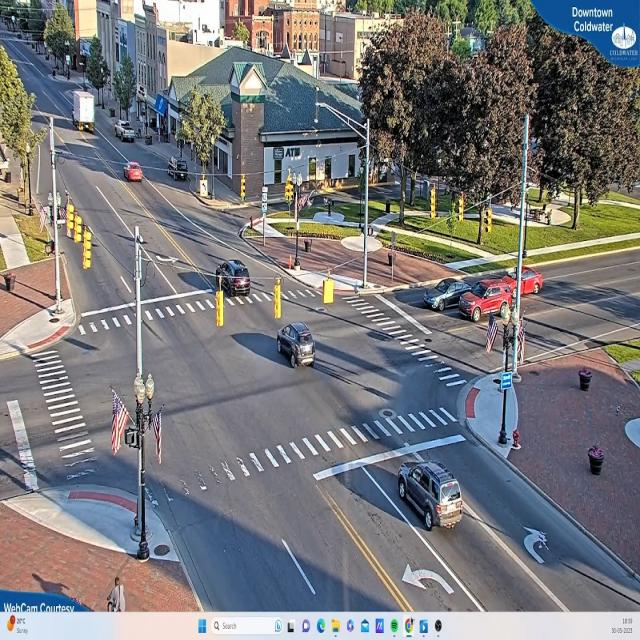car: (398, 458, 464, 531), (276, 323, 318, 368), (216, 260, 253, 296), (166, 159, 190, 180), (123, 162, 143, 182)
